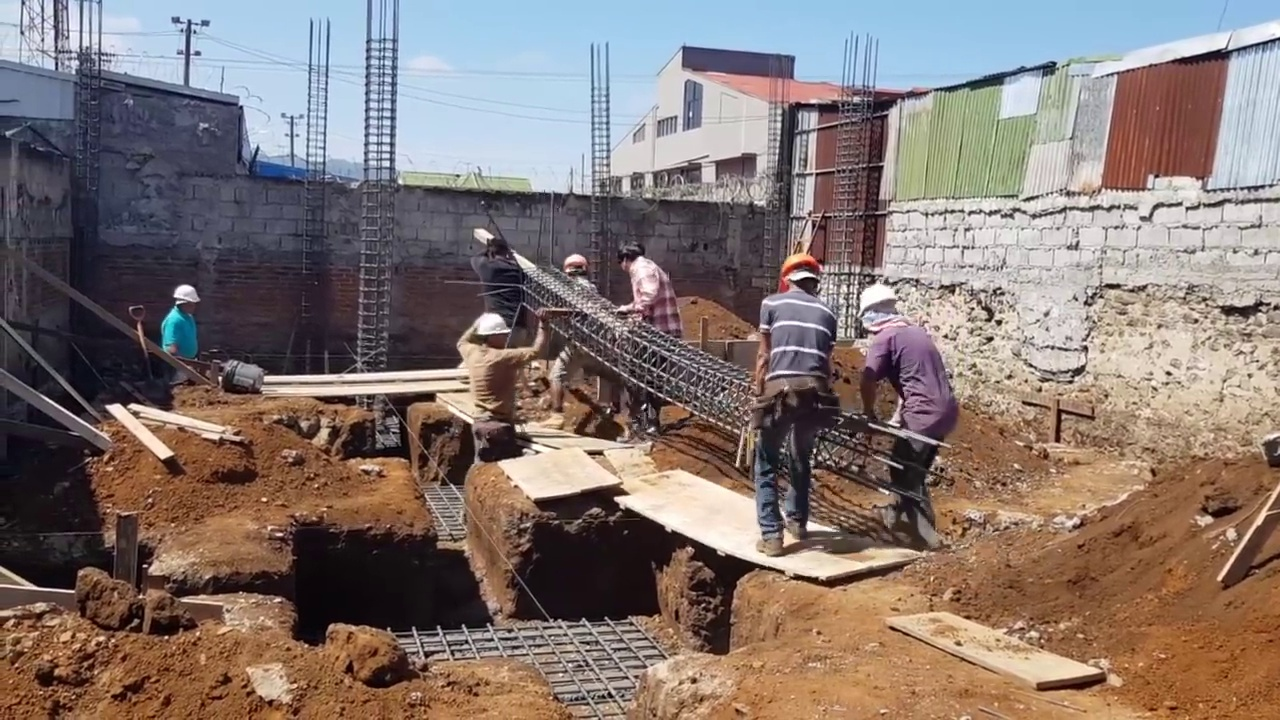helmet: (855, 281, 899, 318), (780, 253, 821, 287), (471, 312, 515, 335), (172, 285, 202, 306), (561, 253, 588, 268)
helmet-off: (620, 243, 645, 271), (486, 234, 510, 262)
helmet-on: (857, 280, 900, 333), (777, 253, 822, 299), (471, 307, 516, 352), (171, 285, 202, 315), (561, 253, 589, 280)
person: (859, 280, 960, 549), (752, 251, 838, 558), (454, 303, 551, 468), (614, 241, 684, 439), (550, 253, 615, 429), (468, 233, 523, 324), (160, 285, 201, 360)
